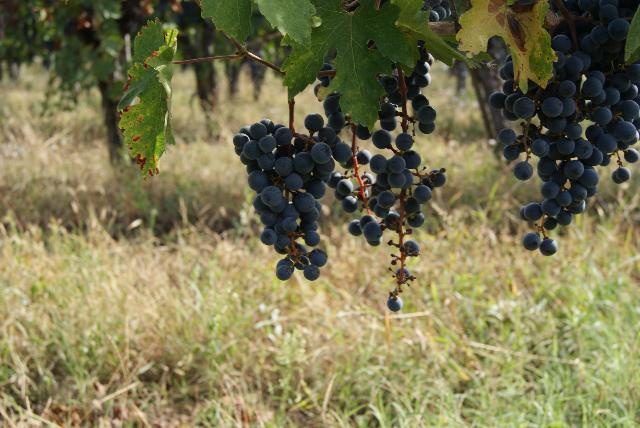grapes: (490, 19, 600, 256), (360, 48, 446, 311), (232, 114, 340, 280), (562, 0, 640, 162)
